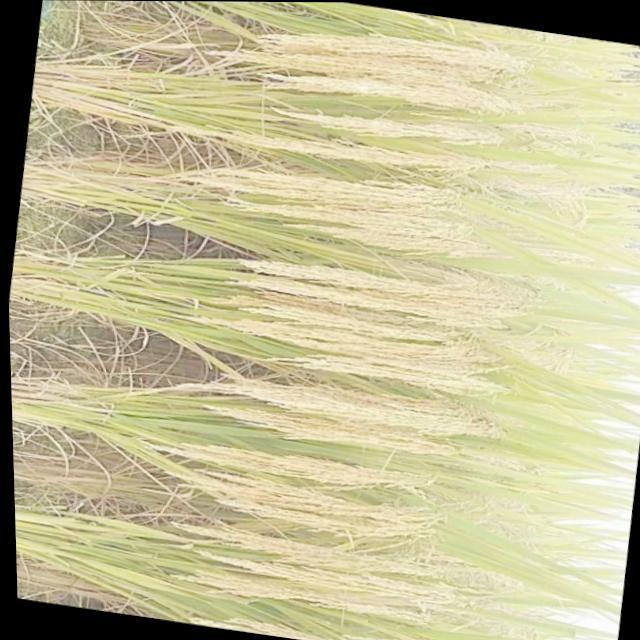Padi: (62, 474, 556, 640), (138, 278, 574, 426), (150, 8, 556, 160), (98, 394, 474, 522), (134, 156, 490, 264)
